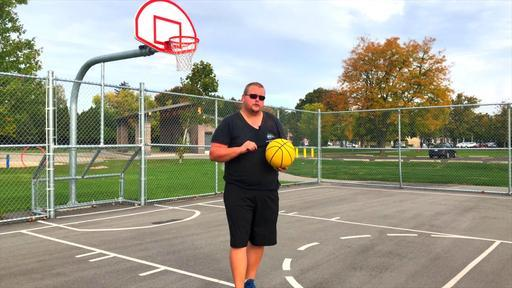ball: (266, 138, 296, 170)
human: (210, 83, 288, 288)
rim: (168, 36, 200, 69)
